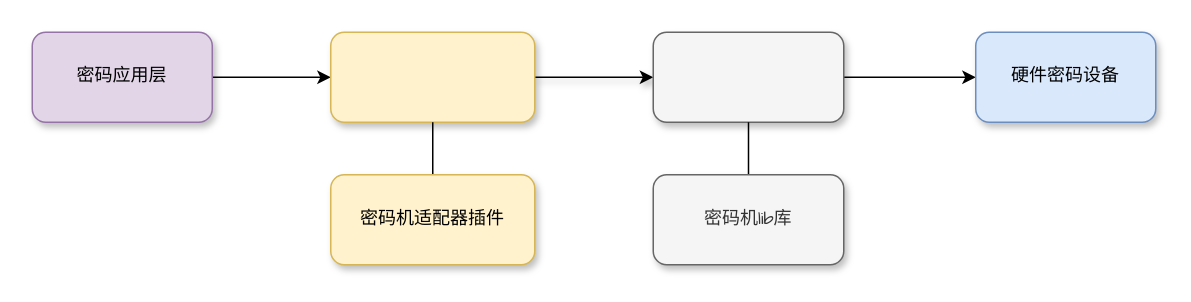
The diagram is 1191 pixels wide and 302 high, and some of its shapes have lost their labels. The shapes that lost their labels are listed below. From the top down, each one's centre as x and y in pixels, then its label:
At point 433,79: "密码接口层".
At point 749,79: "设备接入层".
